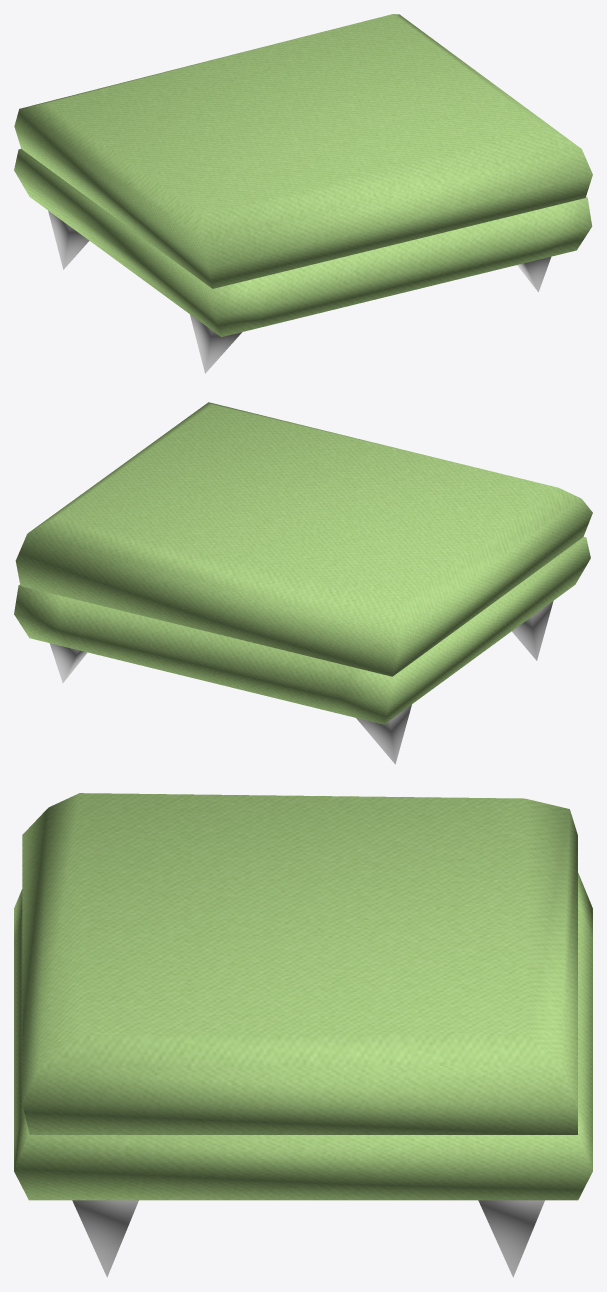
File: Ottoman_A_12.FBX
3 views of the same model, one above another, from view 1: azimuth 30°, elevation 25°; view 2: azimuth 150°, elevation 25°; view 3: azimuth 270°, elevation 25° (orthographic). The views are drawn at different scales.
Visible parts, largest first — view 1: Ottoman; view 2: Ottoman; view 3: Ottoman.
Part boxes in pixels (x1,y1,x2,y2): Ottoman: (14, 14, 592, 373); Ottoman: (14, 402, 592, 764); Ottoman: (14, 793, 592, 1277).
Bounding box in the file's own units: 190 × 80.28 × 173.
